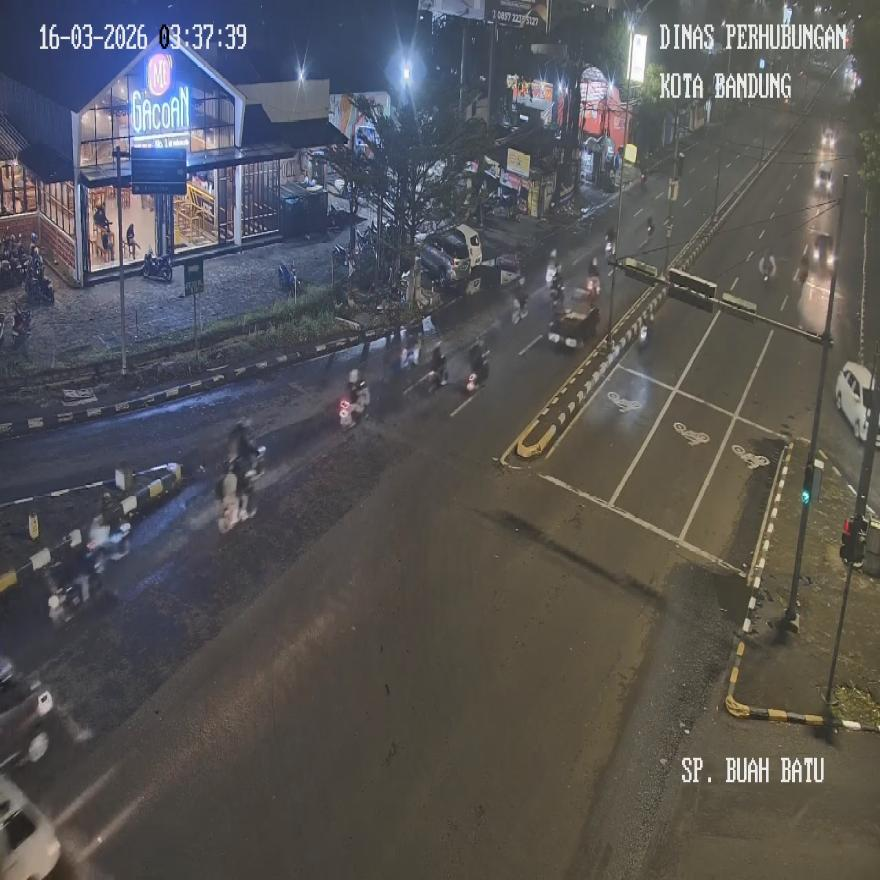Mobil: (836, 360, 880, 444)
Motor: (46, 550, 103, 626), (87, 520, 131, 564), (339, 368, 368, 429), (465, 342, 491, 391), (26, 263, 54, 306), (141, 248, 173, 281), (10, 304, 32, 346), (430, 347, 448, 392), (277, 260, 298, 297), (548, 268, 564, 306), (758, 250, 775, 282), (511, 292, 527, 323), (125, 224, 138, 259)
